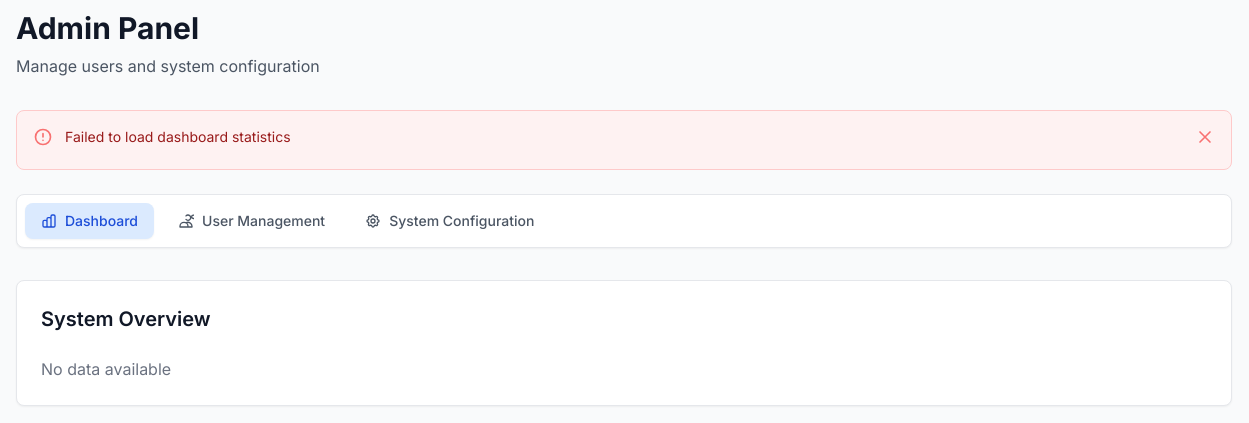
Test case: Admin Page › Error Handling › allows dismissing error messages
Expected: the text "Failed to load dashboard statistics" is shown, [65,127,290,147]
Click the 1st button.
click(1205, 137)  # box [1195,127,1215,147]
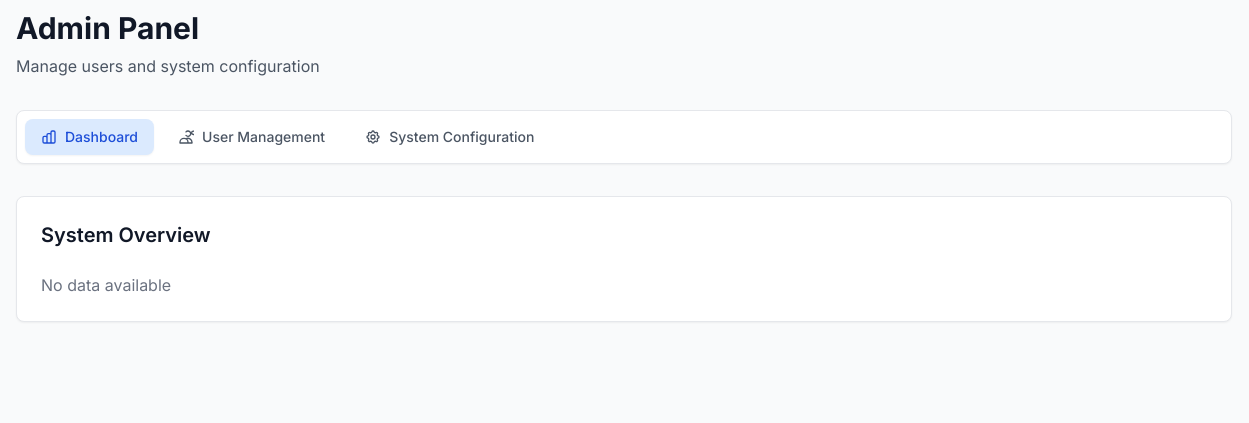
Expected: the text "Failed to load dashboard statistics" is gone
